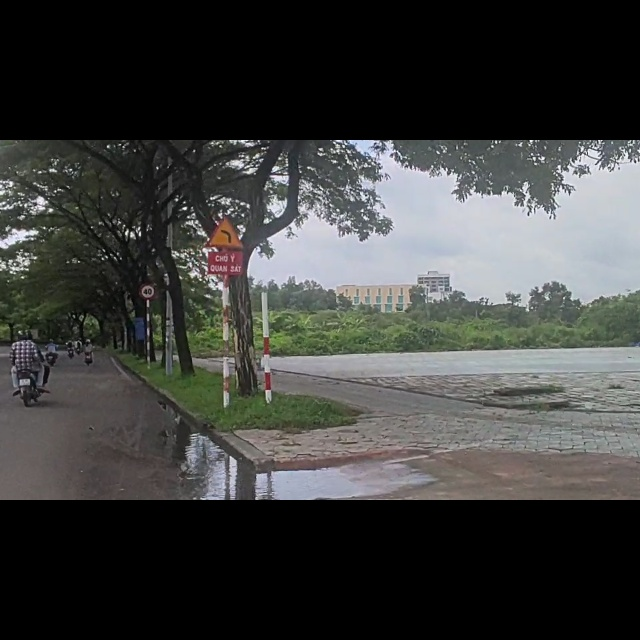bien_nguy_hiem: (206, 133, 246, 197), (139, 252, 158, 280)
